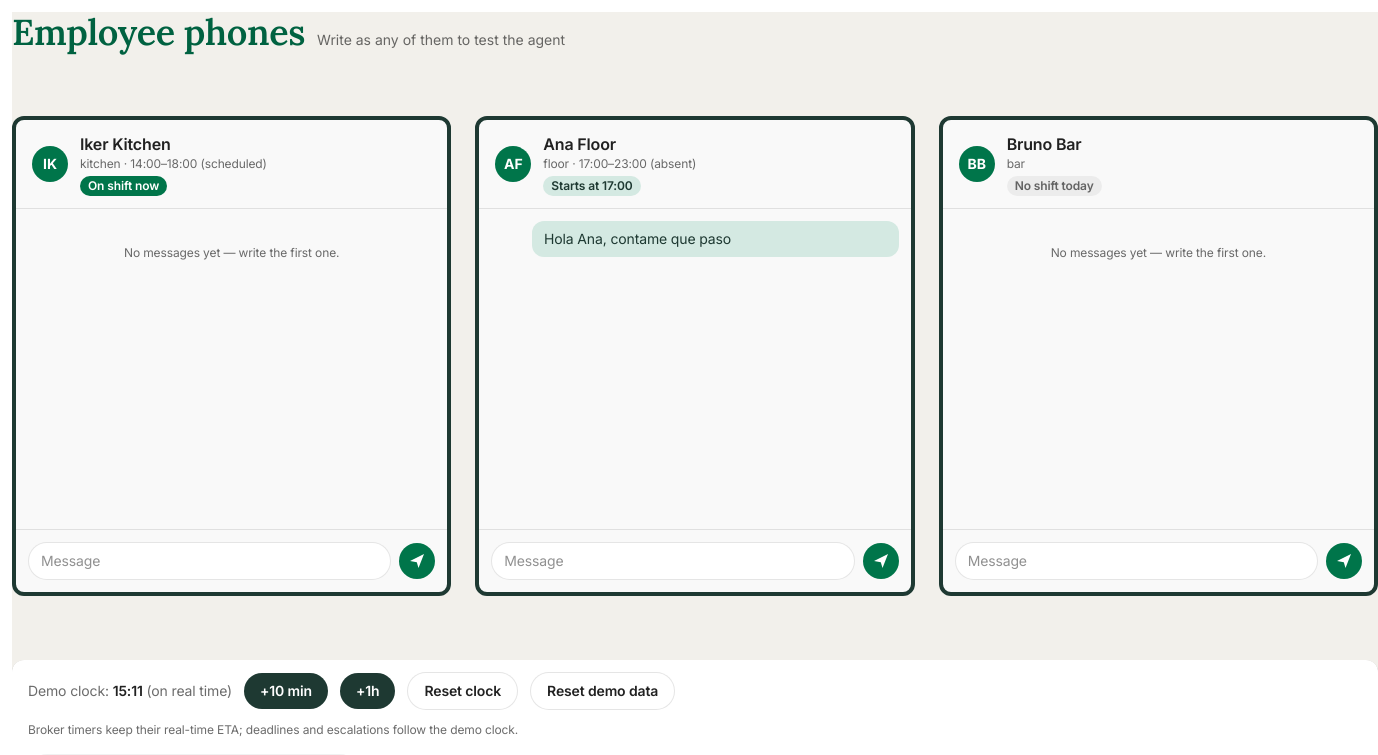
Scenario: SimulatorScreen (spec §7.6, real data) › advances the demo clock through the endpoint
Expected: the text "15:11" is shown, [113,682,143,699]
What coordinates should you click on to do the following:
click the button "+10 min"
I would click on:
 (286, 691)
Its box is [244,673,328,709].
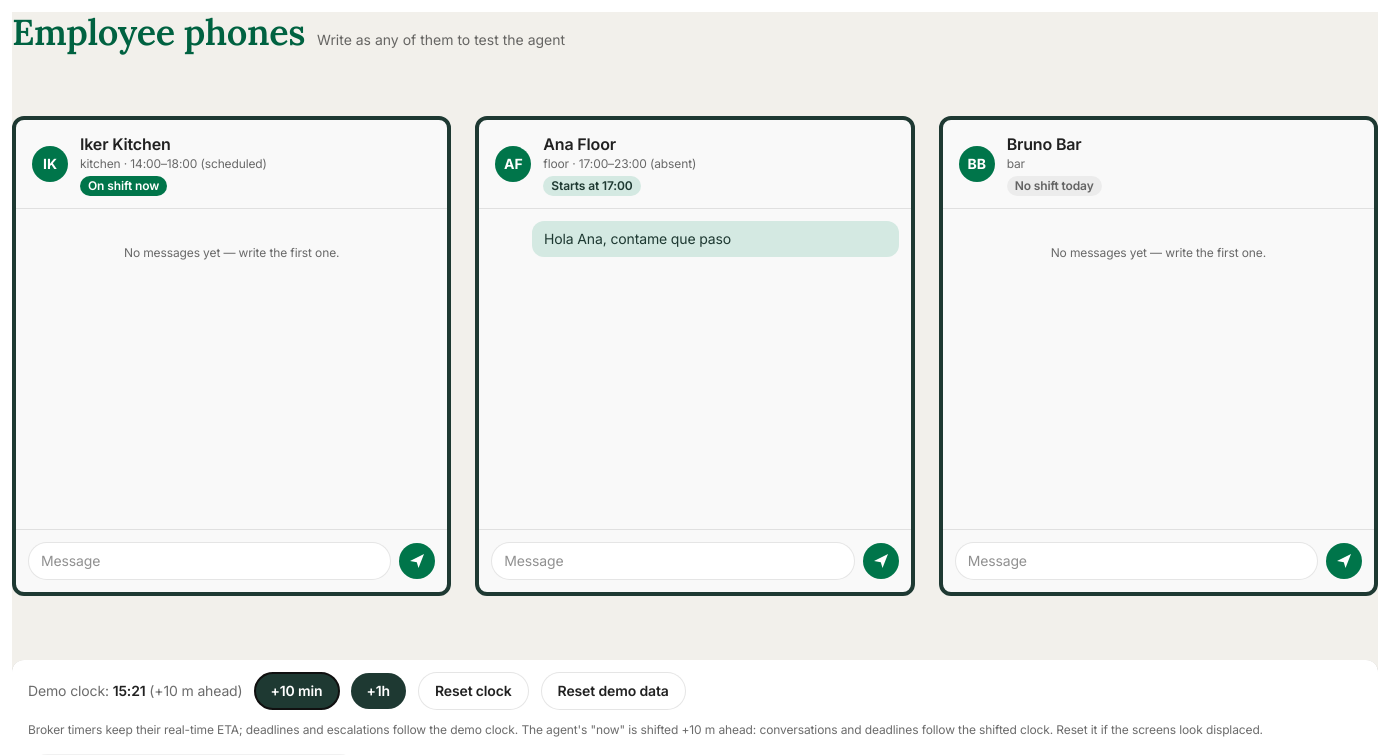
Expected: the text "15:21" is shown, [113,682,146,699]
